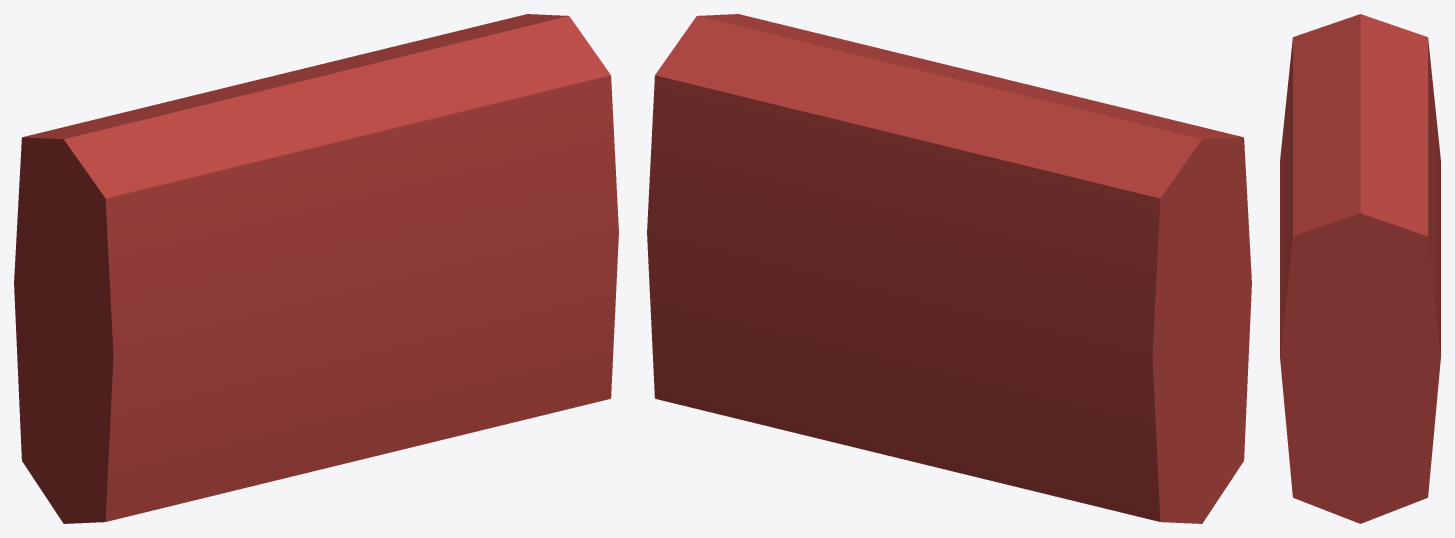
The model's file is hard_case_lod2.glb.
3 views of the same model, side by side, from view 1: azimuth 30°, elevation 25°; view 2: azimuth 150°, elevation 25°; view 3: azimuth 270°, elevation 25° (orthographic). The views are drawn at different scales.
Visible parts, largest first — view 1: hard_case_lod2; view 2: hard_case_lod2; view 3: hard_case_lod2.
Boxes of the visible parts, x1=… form: hard_case_lod2: x1=14, y1=14, x2=618, y2=523; hard_case_lod2: x1=647, y1=14, x2=1251, y2=523; hard_case_lod2: x1=1280, y1=14, x2=1440, y2=523.
Bounding box in the file's own units: 0.44 × 0.32 × 0.15.
